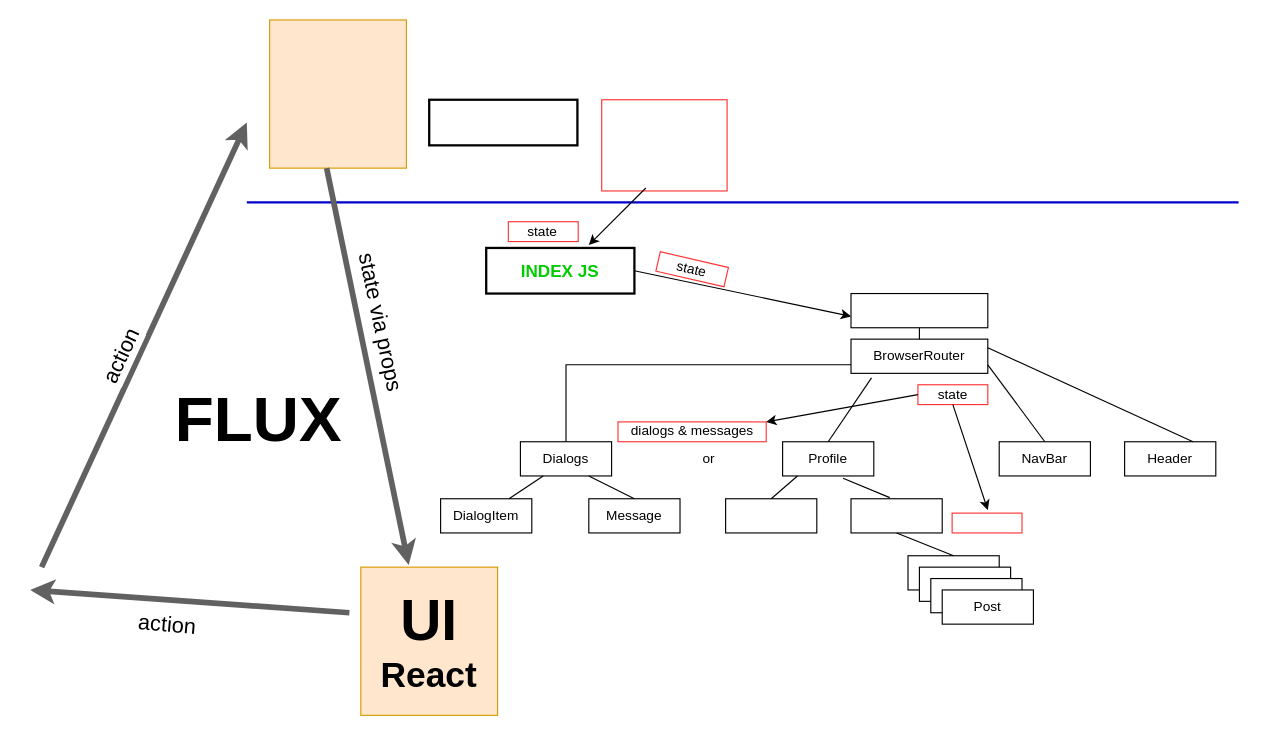
Some shapes in this 1261 by 735 pixel diagram are drawn without their labels. Here are the shapes that lost their labels. From the top down, the centre of each, then its label:
(337,93): BLL Redux
(502,122): STATE JS
(664,145): let state = { posts: [] messages: [] dialogs: [] }
(919,310): App
(770,515): ProfileInfo
(896,515): MyPosts
(986,522): posts
